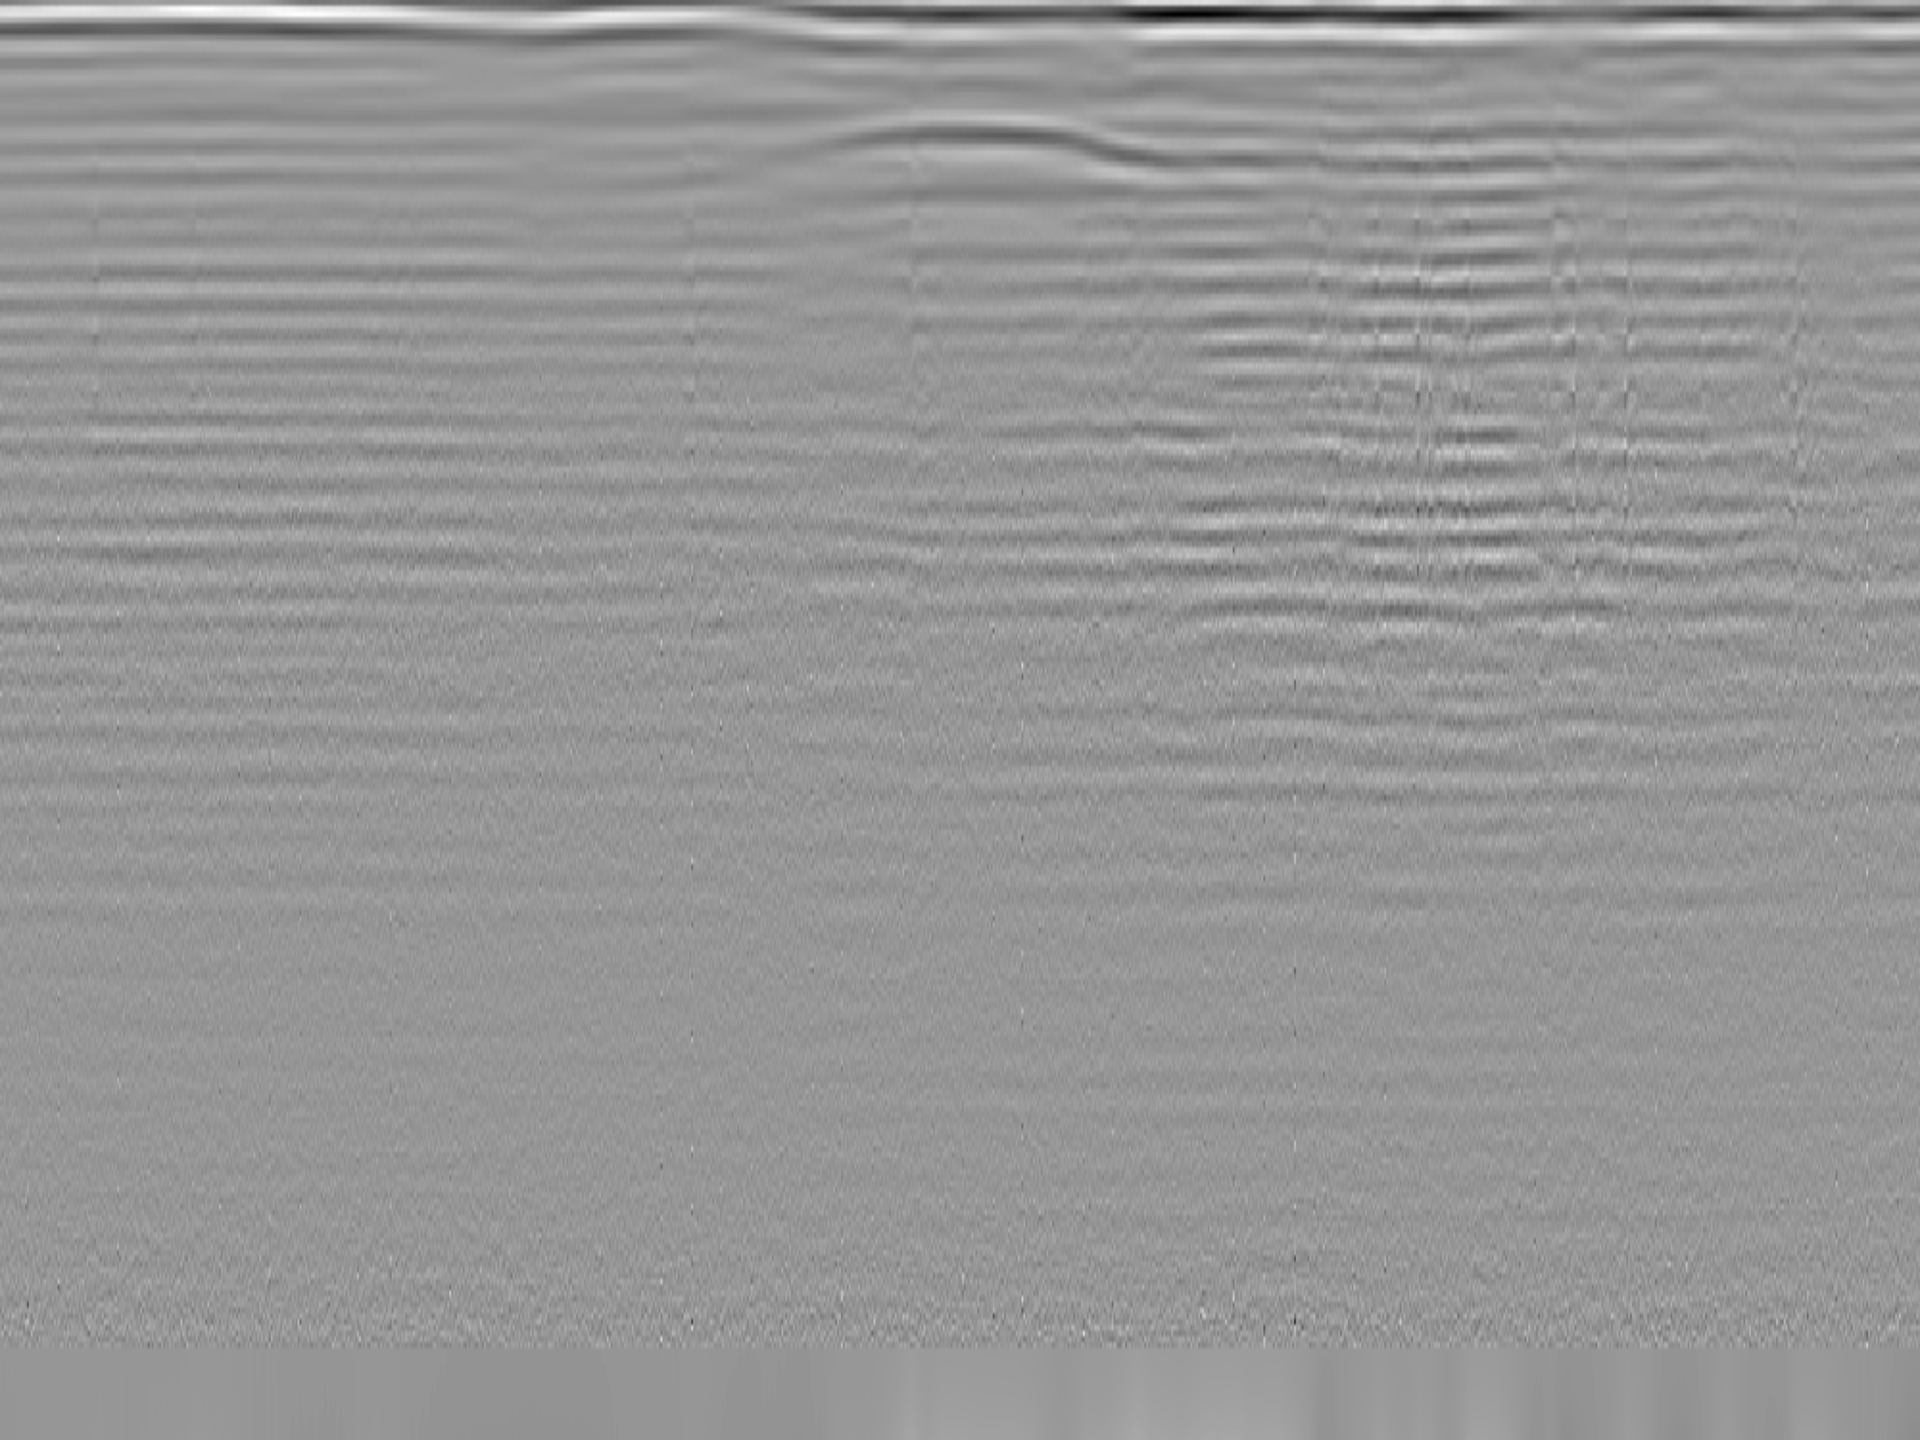Tunnel: (695, 112, 1297, 175)
